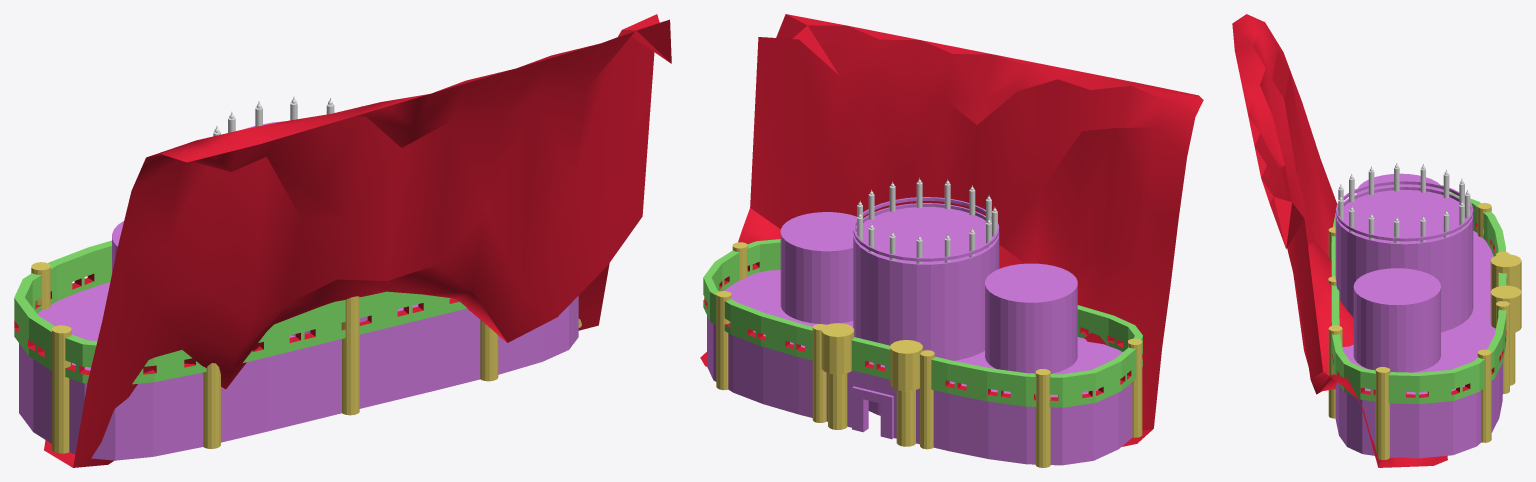
The model's file is candy_castle.fbx.
The picture shows the model from 3 angles, left to right: view 1: azimuth 30°, elevation 25°; view 2: azimuth 150°, elevation 25°; view 3: azimuth 270°, elevation 25°; orthographic projection. The views are drawn at different scales.
Parts seen in each view (by area): view 1: Terrain, Result.001; view 2: Terrain, Result.001; view 3: Result.001, Terrain.
Boxes of the visible parts, x1,y1,x2,y2 form: Terrain: (44, 14, 671, 467); Result.001: (14, 96, 581, 460); Terrain: (700, 14, 1203, 446); Result.001: (703, 177, 1142, 467); Result.001: (1328, 163, 1521, 459); Terrain: (1232, 14, 1447, 467).
Bounding box in the file's own units: 14954 × 9823 × 9313.
